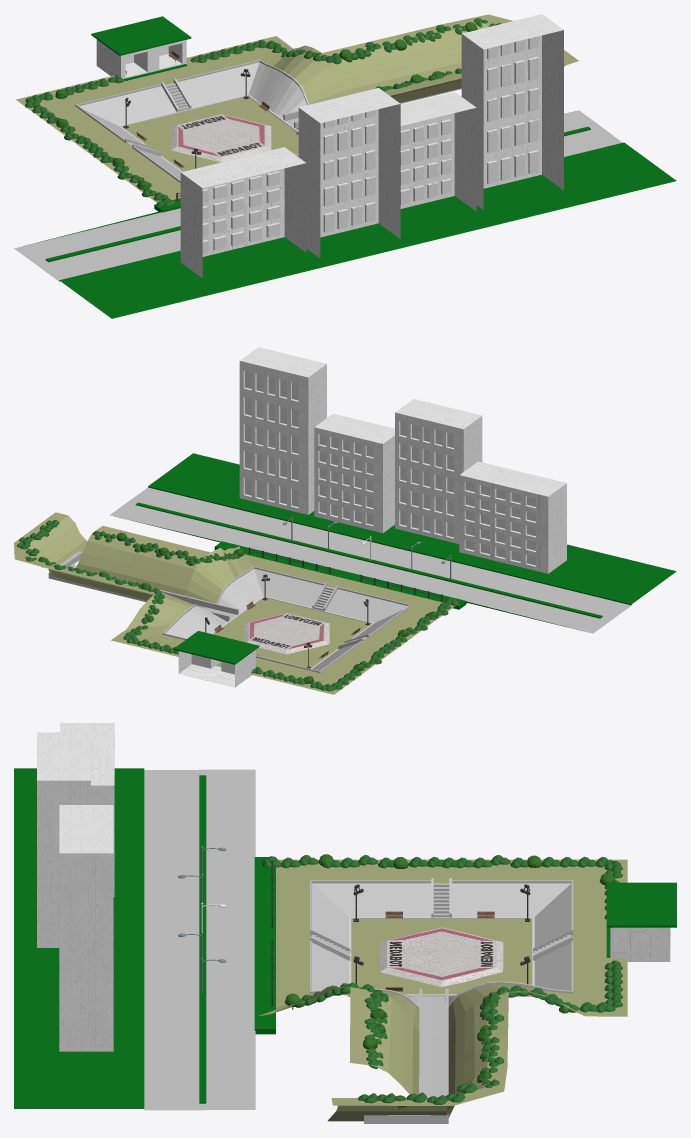
Rendered from Arena1.fbx.
3 renders of one model, top to bottom at view 1: azimuth 30°, elevation 25°; view 2: azimuth 150°, elevation 25°; view 3: azimuth 270°, elevation 25°, orthographic. The views are drawn at different scales.
Parts seen in each view (by area): view 1: Cube, Cube.132, Cube.130, Cube.131, Cube.129, Cylinder, Cube.126, Cube.016, Cube.133, Cube.103, Cube.106; view 2: Cube, Cube.132, Cube.131, Cube.130, Cube.129, Cylinder, Cube.103, Cube.016, Cube.001, Cube.126, Cube.105, Cube.127 (+1 smaller); view 3: Cube, Cube.132, Cube.130, Cylinder, Cube.001, Cube.126, Cube.103, Cube.131, Cube.016, Cube.106, Cube.133, Cube.127 (+1 smaller).
Part boxes in pixels (<box>): Cube: <box>14,14,676,318</box>; Cube.132: <box>461,14,563,209</box>; Cube.130: <box>298,88,400,258</box>; Cube.131: <box>180,147,306,277</box>; Cube.129: <box>400,91,476,211</box>; Cylinder: <box>171,114,271,162</box>; Cube.126: <box>91,16,191,80</box>; Cube.016: <box>96,39,186,78</box>; Cube.133: <box>77,59,308,112</box>; Cube.103: <box>45,126,590,262</box>; Cube.106: <box>75,104,180,182</box>; Cube: <box>14,453,676,694</box>; Cube.132: <box>239,347,326,514</box>; Cube.131: <box>459,461,566,573</box>; Cube.130: <box>395,399,482,543</box>; Cube.129: <box>314,413,394,532</box>; Cylinder: <box>243,613,329,654</box>; Cube.103: <box>135,502,602,618</box>; Cube.016: <box>178,649,255,687</box>; Cube.001: <box>214,541,466,609</box>; Cube.126: <box>173,631,259,664</box>; Cube.105: <box>216,566,410,611</box>; Cube.127: <box>48,551,229,621</box>; Cube: <box>14,768,627,1121</box>; Cube.132: <box>59,805,113,1051</box>; Cube.130: <box>37,732,90,947</box>; Cylinder: <box>380,927,503,987</box>; Cube.001: <box>254,857,275,1034</box>; Cube.126: <box>606,882,676,957</box>; Cube.103: <box>199,775,206,1103</box>; Cube.131: <box>60,723,114,896</box>; Cube.016: <box>610,927,670,961</box>; Cube.106: <box>310,878,573,917</box>; Cube.133: <box>448,881,573,1006</box>; Cube.127: <box>364,988,448,1123</box>.
Bounding box in the file's own units: 30667 × 8662 × 23897.
